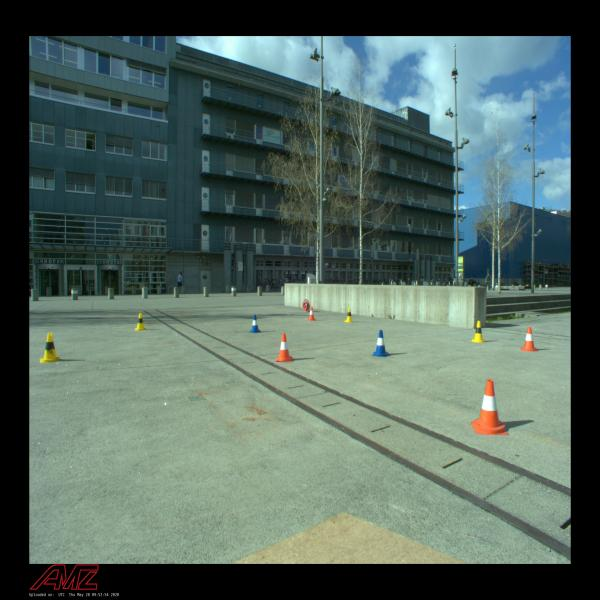blue_cone: (371, 330, 389, 357), (248, 314, 262, 334)
orange_cone: (471, 379, 508, 435), (276, 333, 293, 362), (520, 326, 538, 352), (307, 306, 316, 320)
yellow_cone: (40, 333, 61, 363), (470, 321, 487, 343), (135, 313, 146, 330), (344, 308, 354, 322)
